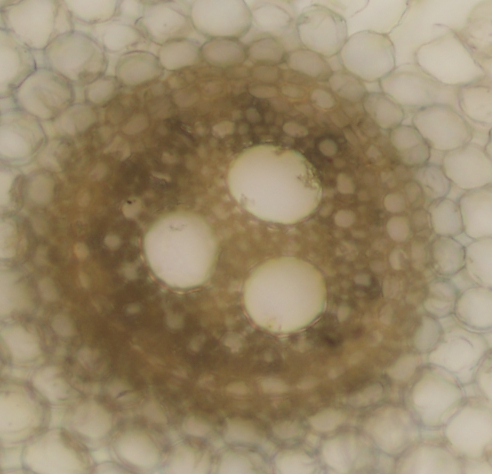lm: (226, 143, 323, 224), (242, 256, 330, 333), (143, 211, 217, 289)
